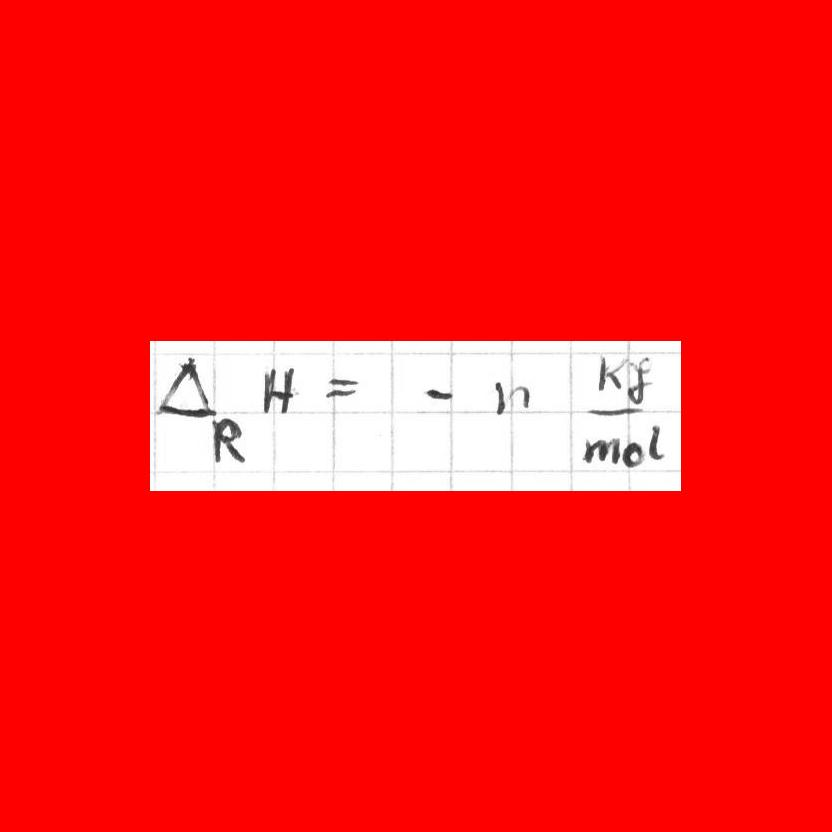Char: (157, 353, 211, 419), (262, 364, 296, 416), (490, 378, 535, 416), (211, 417, 246, 463), (624, 353, 652, 408), (583, 435, 622, 467), (596, 351, 624, 393), (322, 374, 361, 402), (584, 404, 645, 421), (647, 421, 666, 462), (420, 383, 455, 404), (622, 440, 644, 467)
